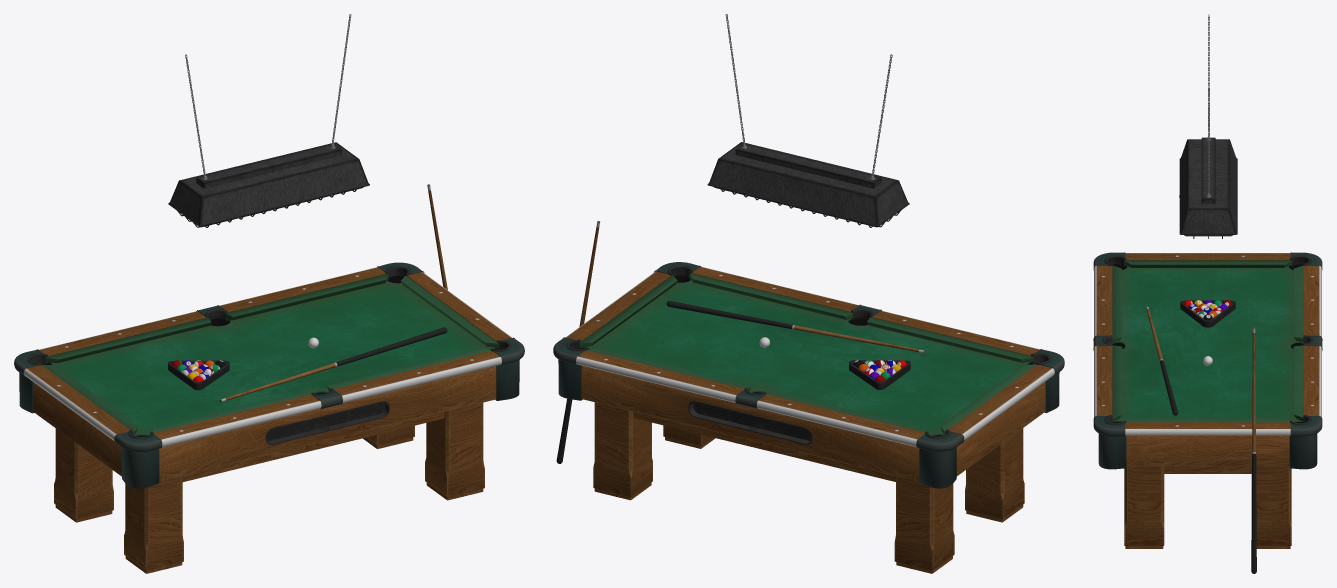
Rendered from POOLTABLE_sketchfab.fbx.
3 renders of one model, left to right at view 1: azimuth 30°, elevation 25°; view 2: azimuth 150°, elevation 25°; view 3: azimuth 270°, elevation 25°, orthographic. The views are drawn at different scales.
Parts seen in each view (by area): view 1: Plane.042, Cube.026, Plane.041, Cube.025, Plane.032, Plane.040, Plane.039, Plane.036, Plane.030, Plane.031, Plane.038, Plane.037 (+4 smaller); view 2: Plane.042, Cube.026, Plane.041, Cube.025, Plane.032, Plane.040, Plane.039, Plane.036, Plane.030, Plane.031, Plane.038, Plane.037 (+5 smaller); view 3: Plane.042, Cube.026, Cube.025, Plane.032, Plane.030, Plane.039, Plane.040, Plane.031, Plane.036, Plane.037, Cylinder.035, Plane.029 (+3 smaller).
Boxes of the visible parts, x1,y1,x2,y2 form: Plane.042: (48, 281, 496, 435); Cube.026: (54, 402, 484, 573); Plane.041: (159, 366, 496, 481); Cube.025: (168, 142, 369, 226); Plane.032: (39, 267, 501, 447); Plane.040: (45, 273, 490, 432); Plane.039: (24, 272, 512, 440); Plane.036: (19, 360, 519, 488); Plane.030: (33, 382, 121, 476); Plane.031: (42, 275, 498, 435); Plane.038: (182, 412, 444, 481); Plane.037: (14, 262, 524, 451); Plane.042: (581, 280, 1030, 435); Cube.026: (593, 402, 1024, 573); Plane.041: (582, 365, 919, 481); Cube.025: (707, 142, 909, 226); Plane.032: (576, 266, 1039, 446); Plane.040: (587, 273, 1033, 432); Plane.039: (565, 271, 1054, 440); Plane.036: (558, 359, 1059, 488); Plane.030: (956, 382, 1045, 476); Plane.031: (580, 275, 1036, 435); Plane.038: (633, 411, 895, 481); Plane.037: (553, 262, 1064, 451); Plane.042: (1112, 266, 1303, 422); Cube.026: (1124, 466, 1291, 548); Cube.025: (1179, 137, 1237, 234); Plane.032: (1094, 265, 1321, 417); Plane.030: (1126, 436, 1289, 466); Plane.039: (1125, 253, 1290, 435); Plane.040: (1112, 265, 1303, 421); Plane.031: (1123, 260, 1292, 422); Plane.036: (1098, 433, 1317, 469); Plane.037: (1093, 252, 1322, 436); Cylinder.035: (1251, 327, 1256, 573); Plane.029: (1164, 466, 1251, 473).
Size of the model in its own units: 263 by 274 by 134.
